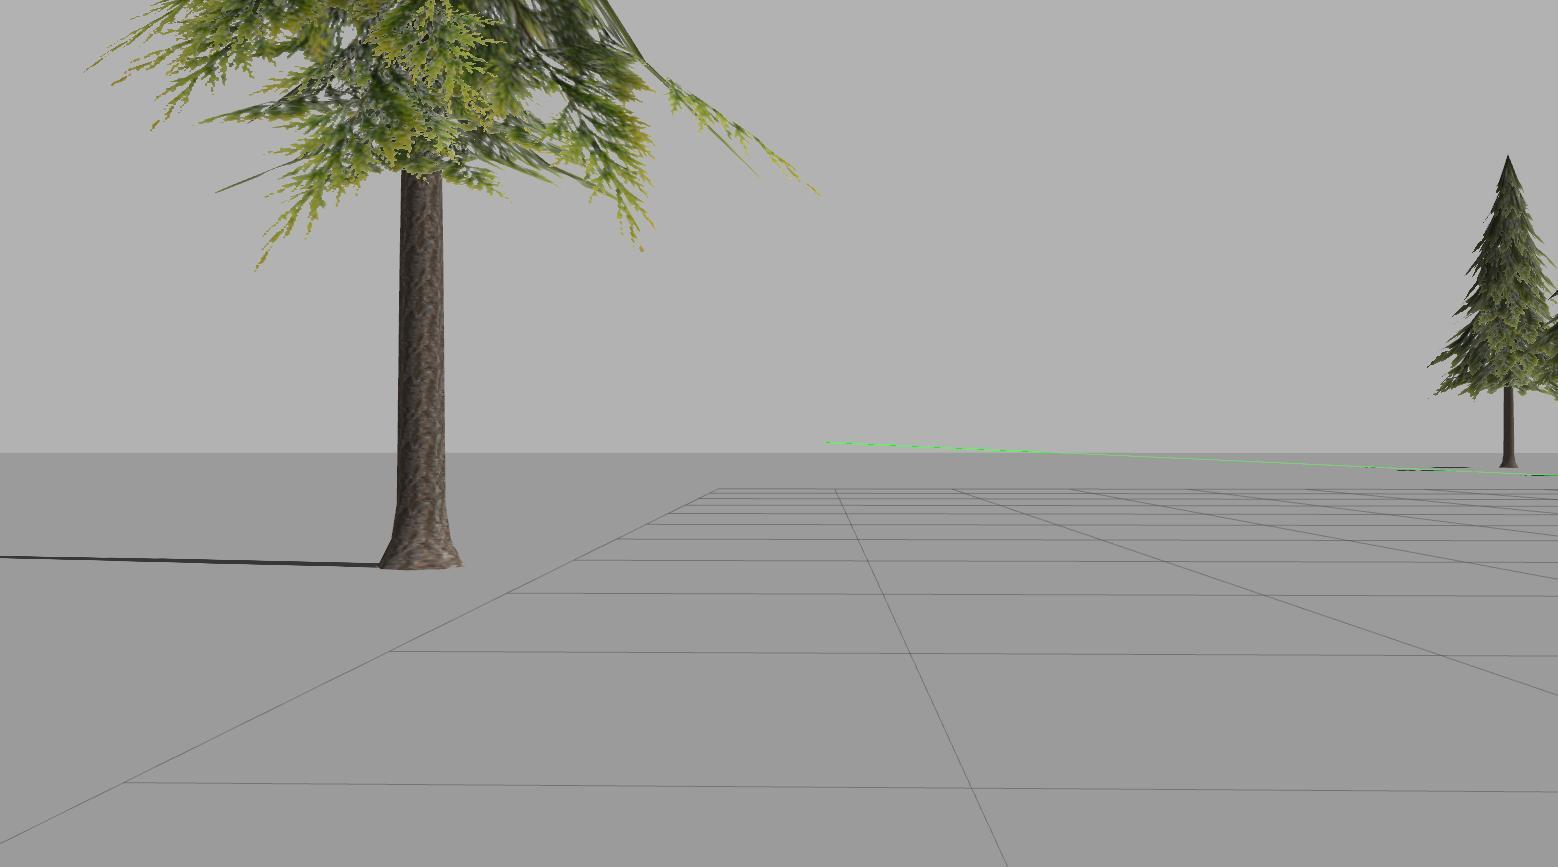tree_gazebo: (1433, 158, 1552, 467)
